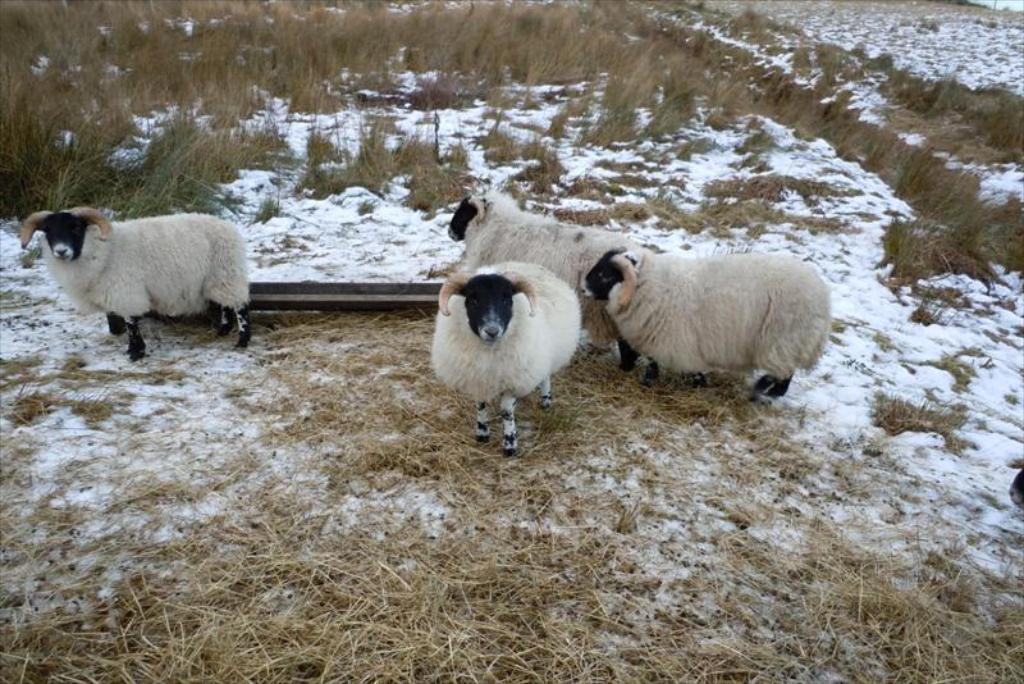sheep: (582, 244, 838, 409), (20, 192, 248, 359), (433, 262, 583, 453)
